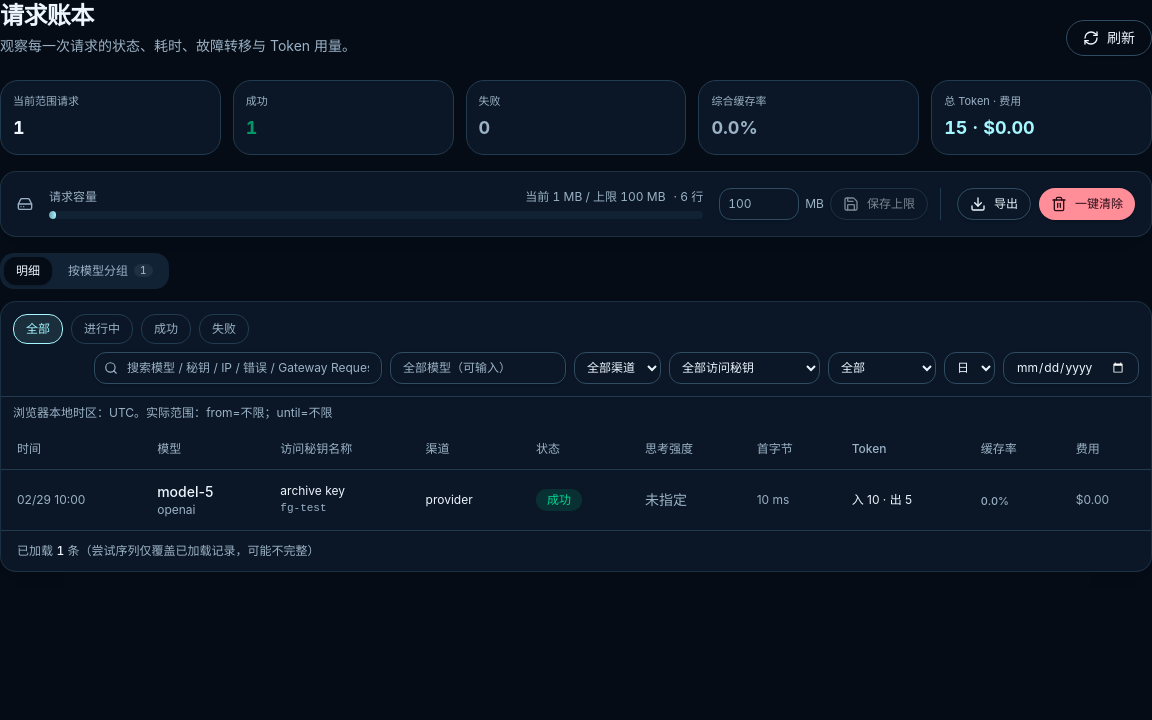
Test: Requests filters › shows optional phase diagnostics without inventing missing timings
The image size is (1152, 720).
Expected: the text "model-5" is shown, [157,482,213,500]
Click the text "model-5": (576, 499) [1,469,1151,530]
(page scrolled)
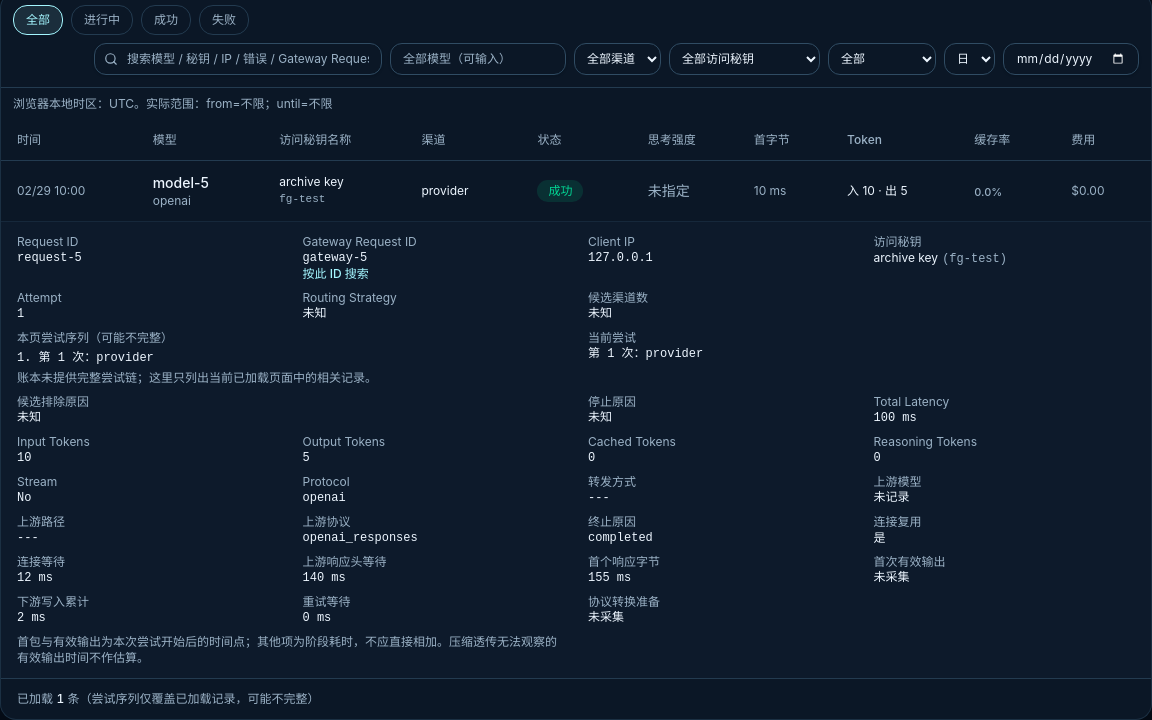
Expected: the text "openai_responses" is shown, [302,530,418,544]
Expected: the text "12 ms" is shown, [17,570,53,584]
Expected: the text "140 ms" is shown, [302,570,346,584]
